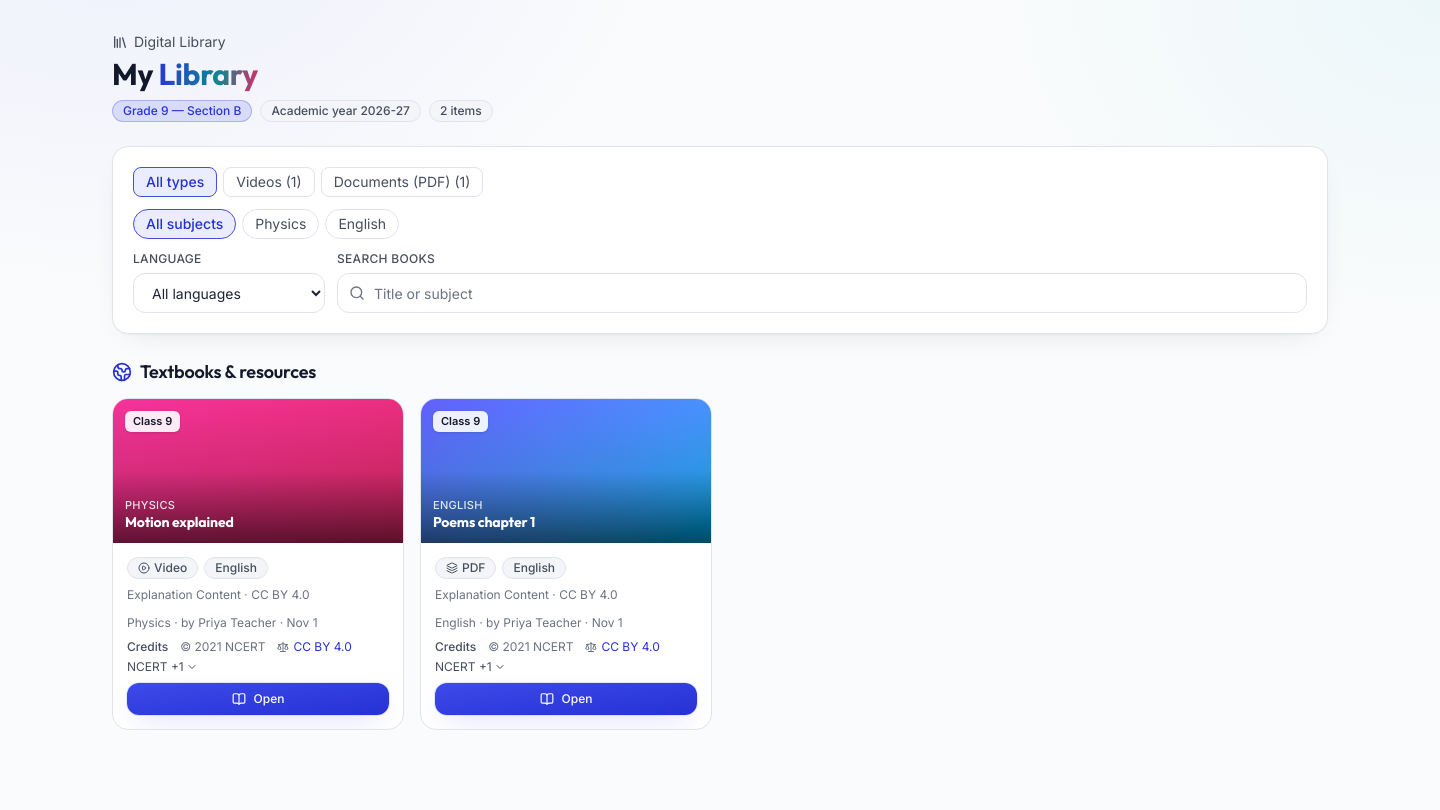
Test case: Student Library: content type → subjects › offers types that have content and narrows the subjects to those with content of the chosen type
Click the radio button labelled "Videos (1)": (269, 182) [223, 167, 315, 197]
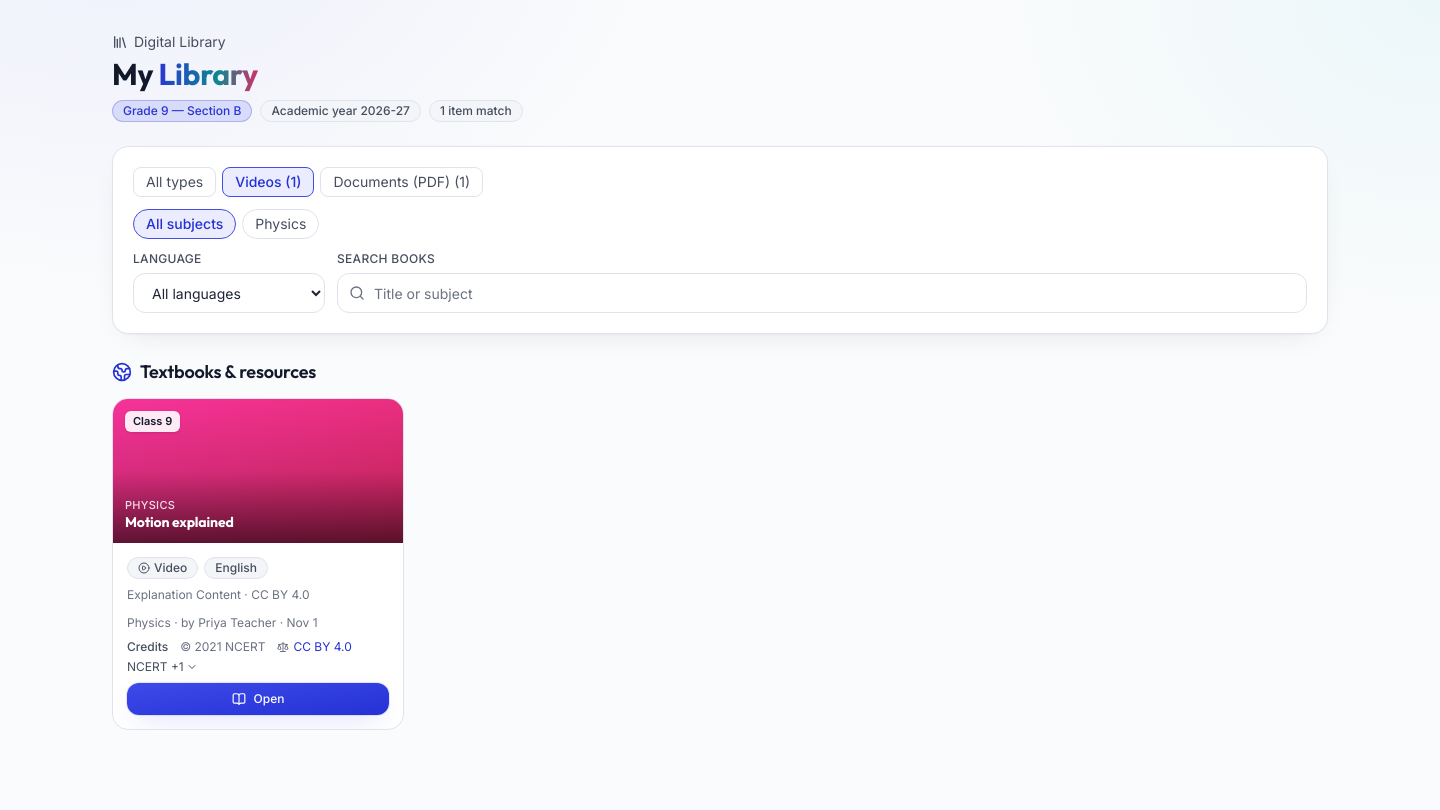
Expected: the element "Motion explained" is shown, [112, 398, 404, 730]
Expected: the heading "Poems chapter 1" is gone
